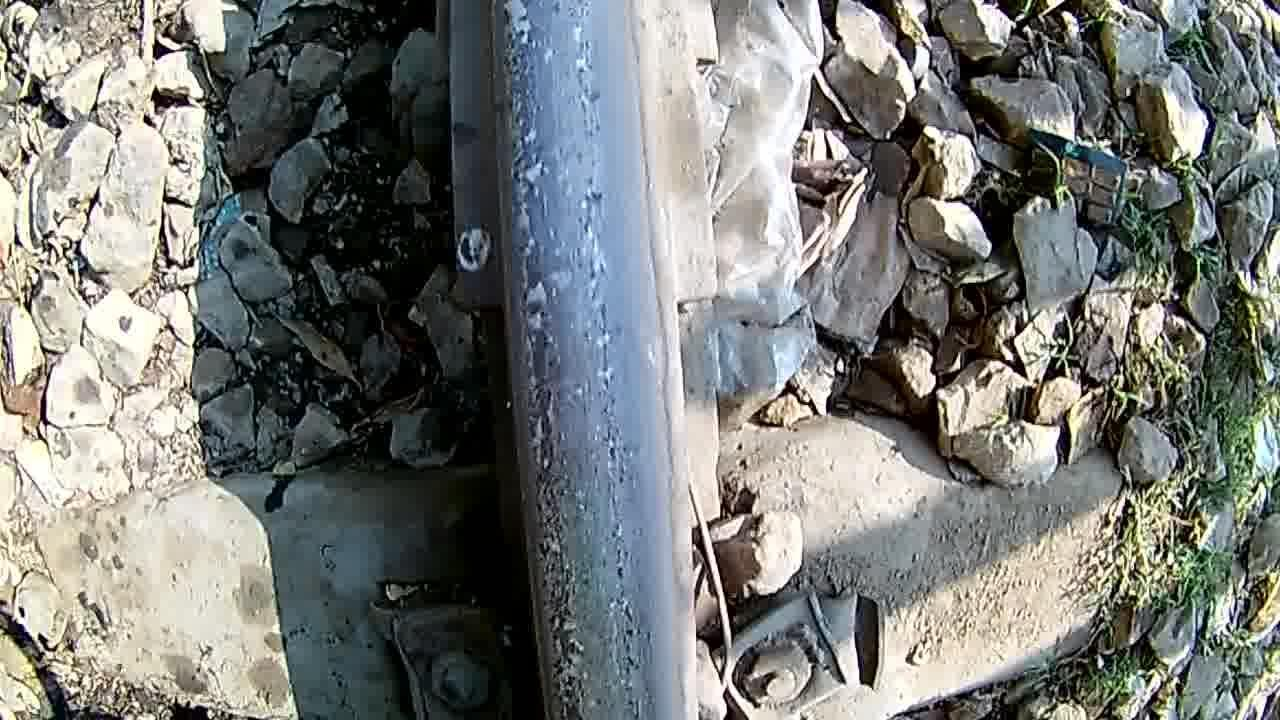crack: (493, 4, 671, 718)
